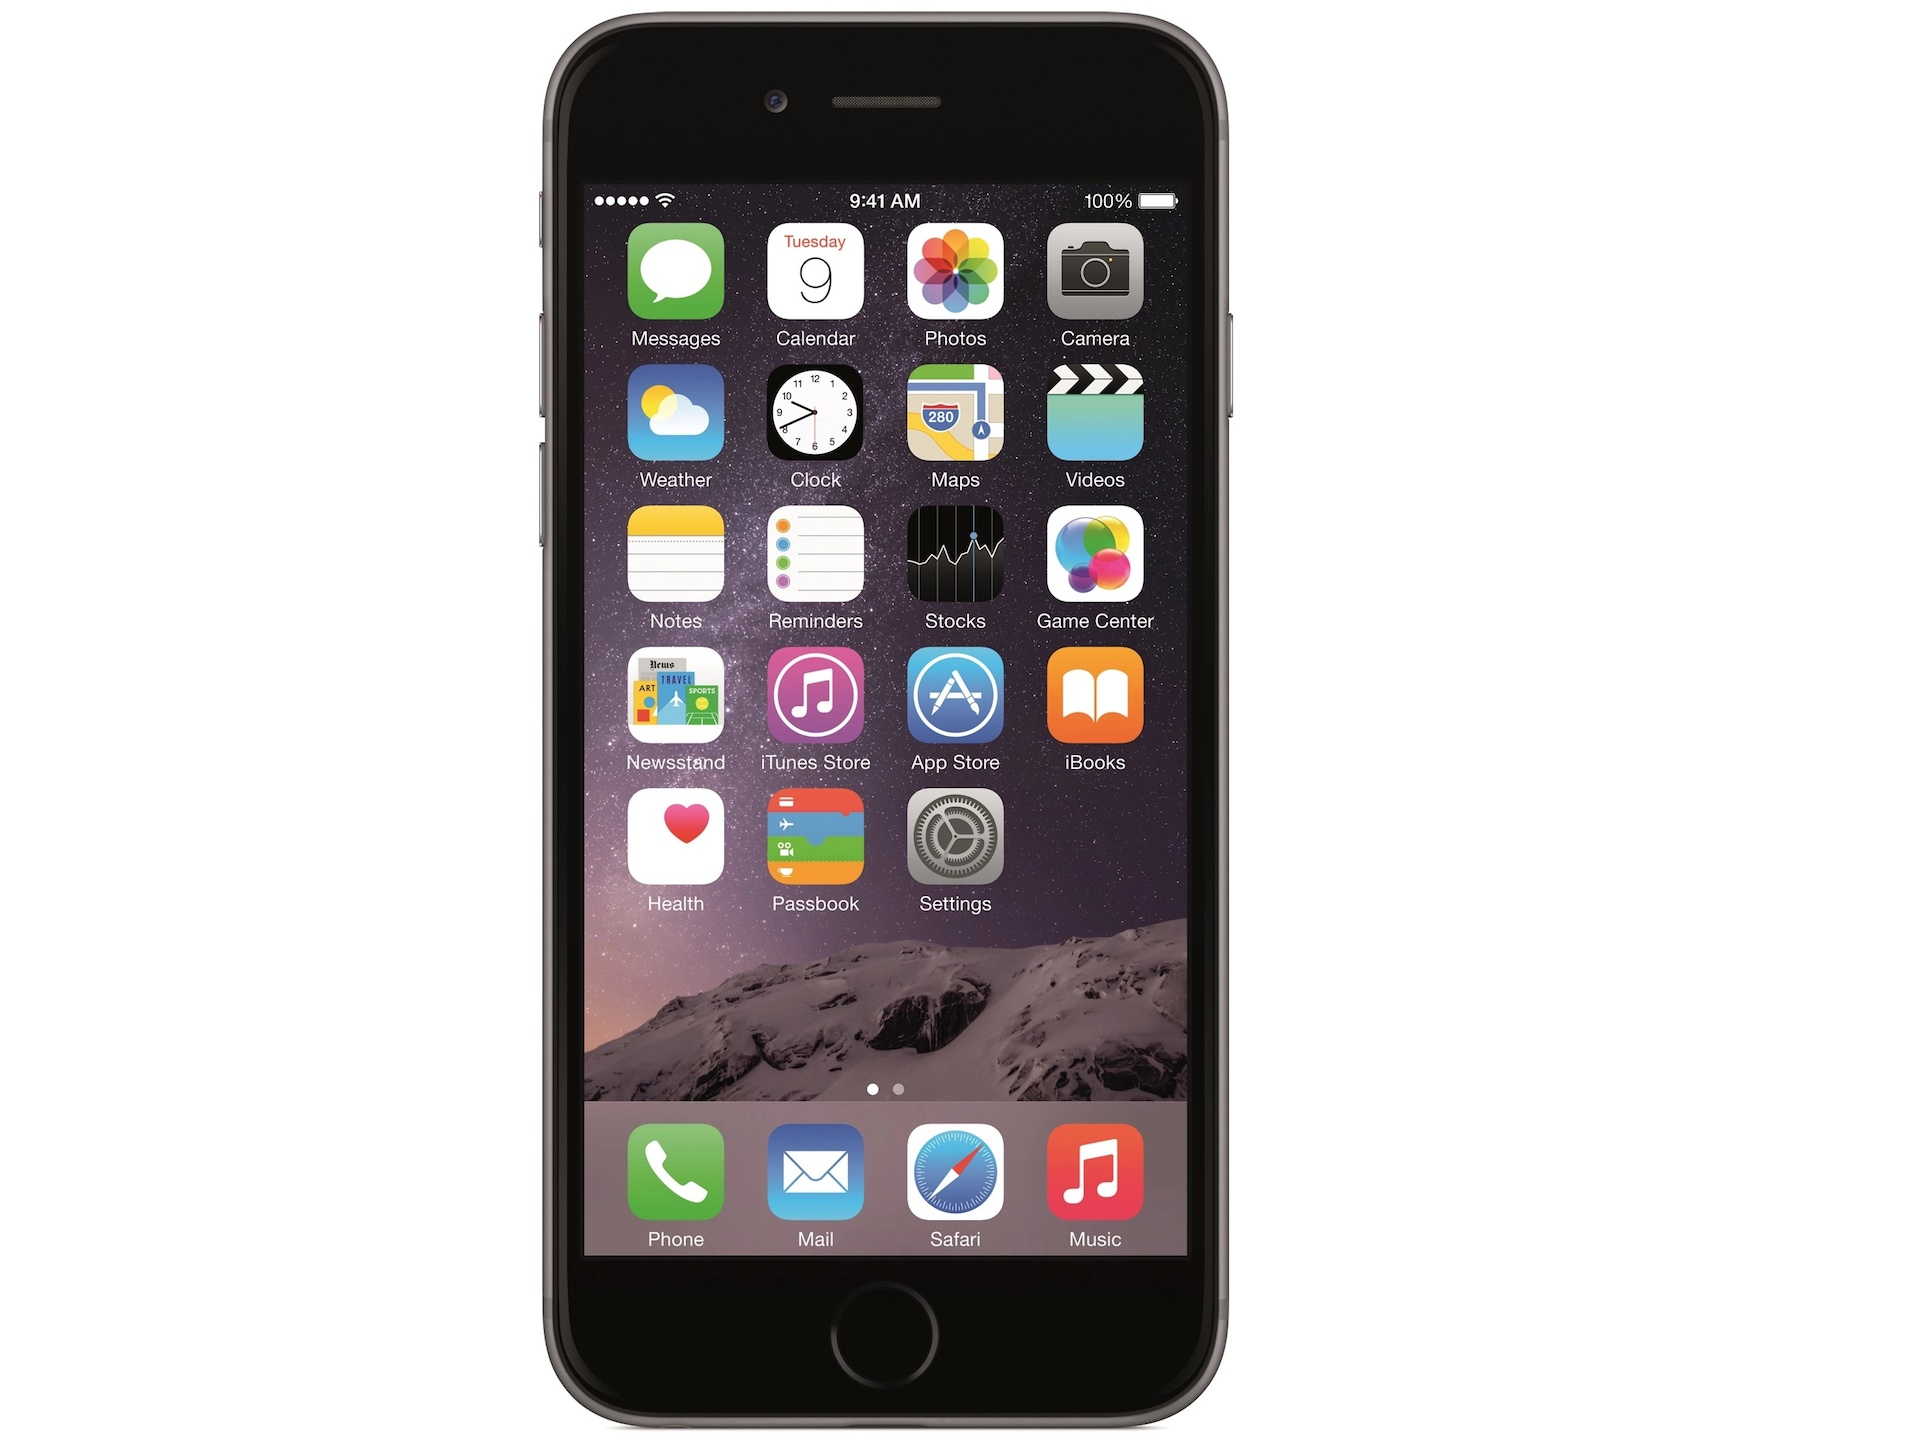smartphone: (534, 5, 1243, 1434)
